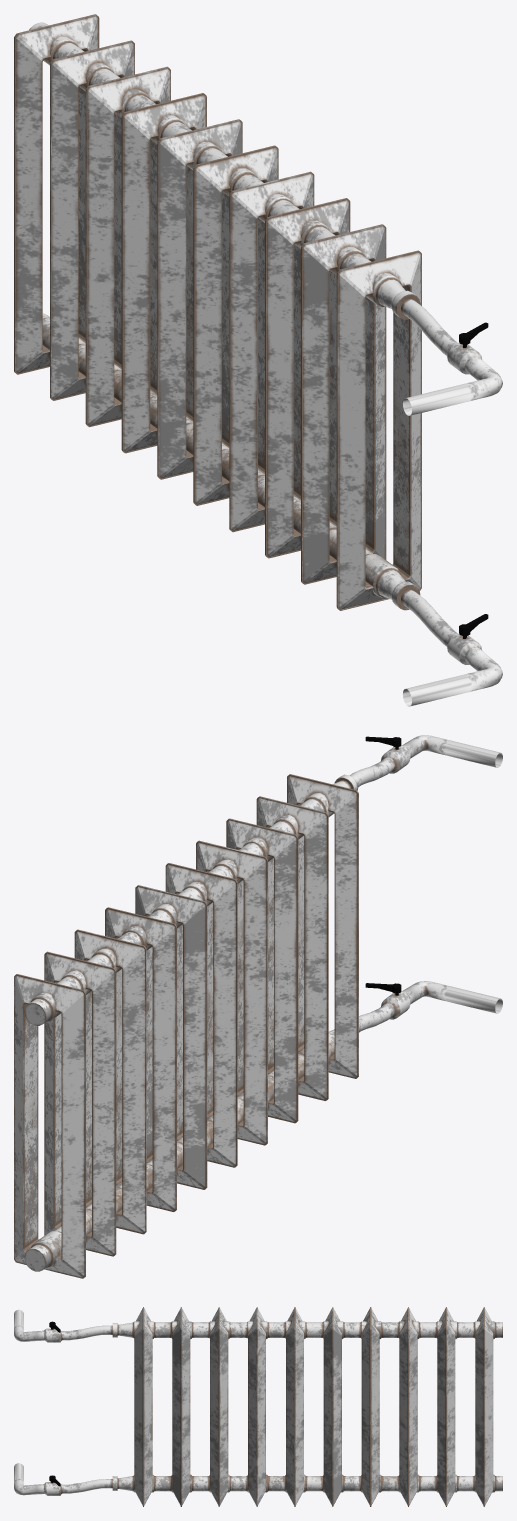
File: SM_Radiator_001.fbx
3 renders of one model, top to bottom at view 1: azimuth 30°, elevation 25°; view 2: azimuth 150°, elevation 25°; view 3: azimuth 270°, elevation 25°, orthographic. The views are drawn at different scales.
Parts seen in each view (by area): view 1: Плоскость.001; view 2: Плоскость.001; view 3: Плоскость.001.
Part boxes in pixels (x1,y1,x2,y2): Плоскость.001: [14, 14, 502, 706]; Плоскость.001: [14, 735, 502, 1278]; Плоскость.001: [14, 1307, 502, 1506].
Size of the model in its own units: 37.94 by 93.42 by 230.
1 material, 1 textured.
